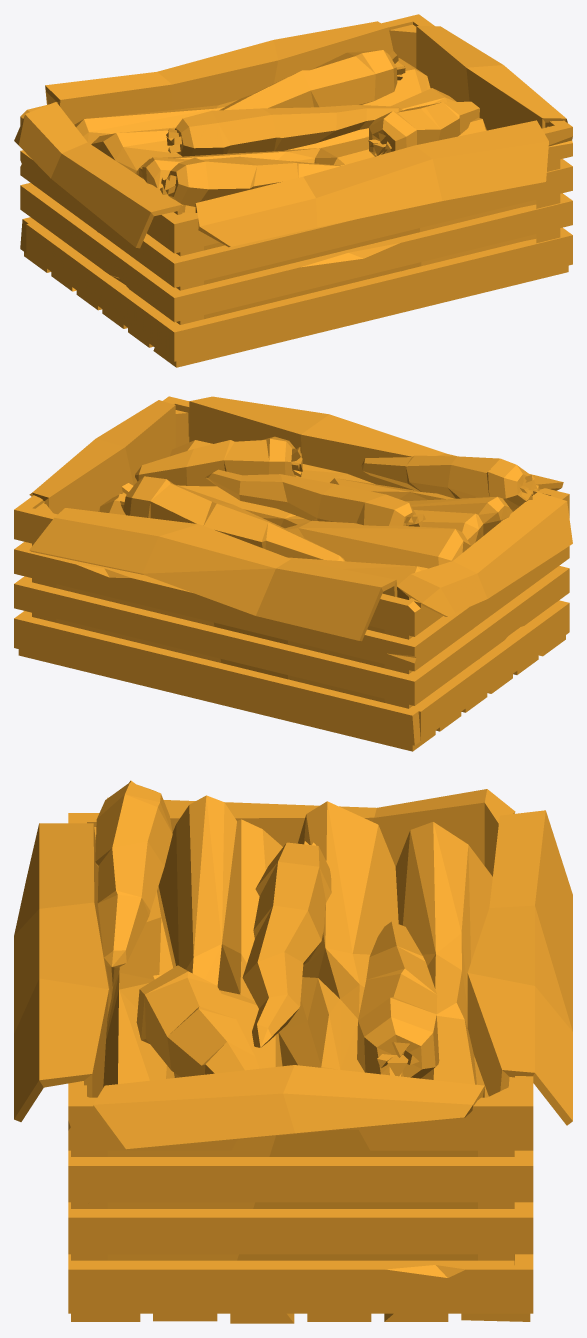
The model's file is SM_Crate_Wood_Medium_Paper_Carrots.fbx.
The picture shows the model from 3 angles, top to bottom: view 1: azimuth 30°, elevation 25°; view 2: azimuth 150°, elevation 25°; view 3: azimuth 270°, elevation 25°; orthographic projection. The views are drawn at different scales.
Visible parts, largest first — view 1: crate-wood-medium-paper-carrots; view 2: crate-wood-medium-paper-carrots; view 3: crate-wood-medium-paper-carrots.
Part boxes in pixels (box(x1,y1,x2,y2)): crate-wood-medium-paper-carrots: box(14, 14, 572, 367); crate-wood-medium-paper-carrots: box(14, 396, 572, 751); crate-wood-medium-paper-carrots: box(14, 780, 572, 1323).
Bounding box in the file's own units: 0.663 × 0.2642 × 0.4887.
